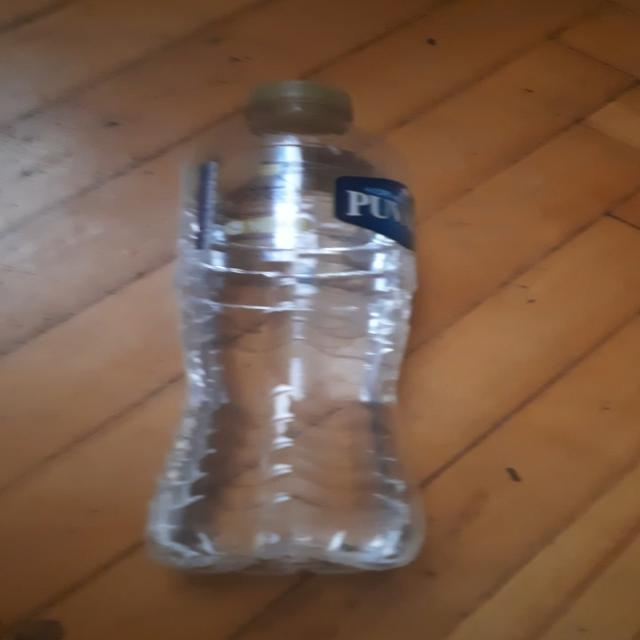Plastic: (143, 80, 427, 578)
